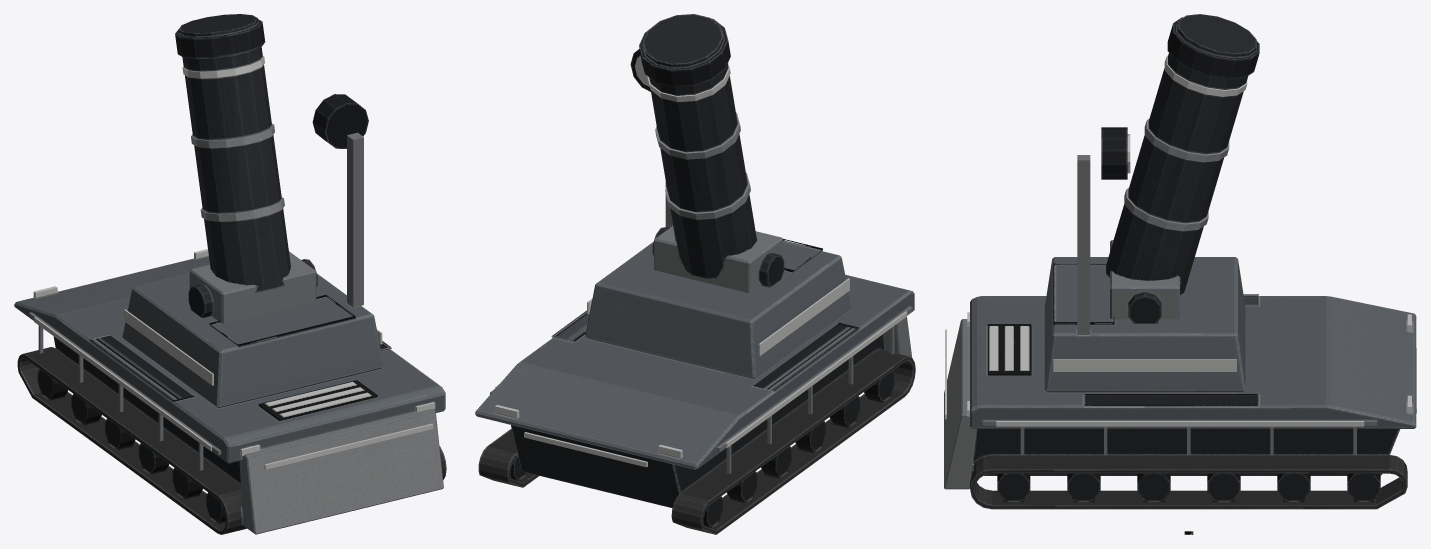
Rendered from chs_cyclops.fbx.
3 views of the same model, side by side, from view 1: azimuth 30°, elevation 25°; view 2: azimuth 150°, elevation 25°; view 3: azimuth 270°, elevation 25° (orthographic). The views are drawn at different scales.
Visible parts, largest first — view 1: base_bar, turret_bar, barrel_bar, base_glow_running_bar, turret_glow_running_bar, turret_glow_weapon_bar; view 2: base_bar, turret_bar, barrel_bar, base_glow_running_bar, turret_glow_running_bar, turret_glow_weapon_bar; view 3: base_bar, turret_bar, base_glow_running_bar, barrel_bar, turret_glow_running_bar, turret_glow_weapon_bar.
Part boxes in pixels (x1,y1,x2,y2): base_bar: (14, 256, 446, 534); turret_bar: (122, 14, 383, 408); barrel_bar: (188, 251, 317, 323); base_glow_running_bar: (34, 317, 435, 469); turret_glow_running_bar: (124, 309, 382, 385); turret_glow_weapon_bar: (182, 56, 264, 78); base_bar: (475, 275, 915, 534); turret_bar: (585, 14, 851, 378); barrel_bar: (652, 226, 784, 292); base_glow_running_bar: (495, 311, 907, 467); turret_glow_running_bar: (587, 56, 849, 355); turret_glow_weapon_bar: (647, 63, 730, 101); base_bar: (944, 294, 1416, 509); turret_bar: (1044, 14, 1259, 392); base_glow_running_bar: (945, 312, 1416, 426); barrel_bar: (1110, 240, 1179, 323); turret_glow_running_bar: (1053, 134, 1236, 371); turret_glow_weapon_bar: (1164, 55, 1247, 96).
Size of the model in its own units: 624 by 1282 by 1080.
2 materials, 2 textured.
